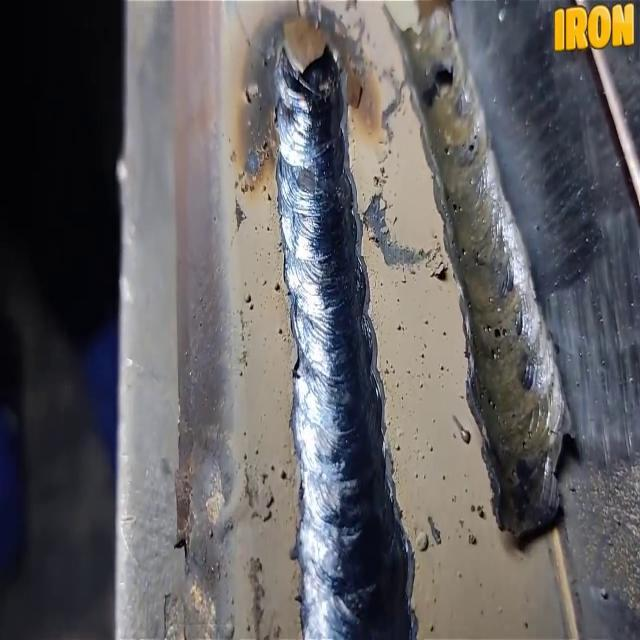Good Weld: (278, 99, 412, 632)
